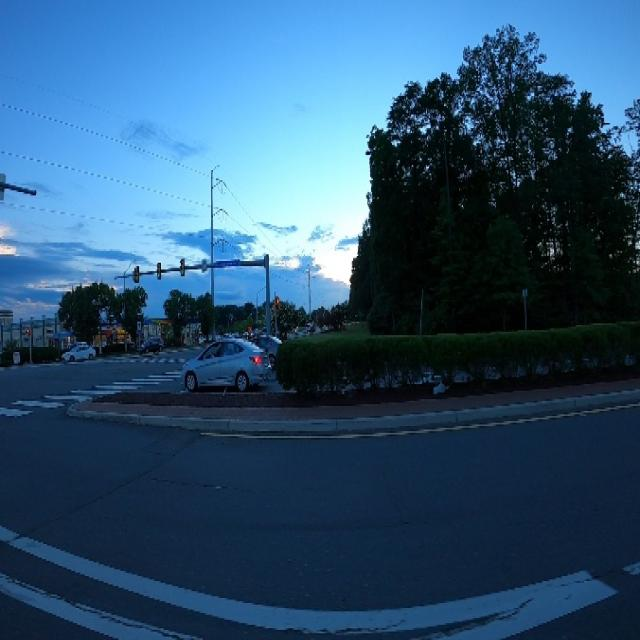cars: (180, 333, 266, 392), (244, 327, 285, 372), (56, 337, 100, 371), (137, 334, 162, 359)
